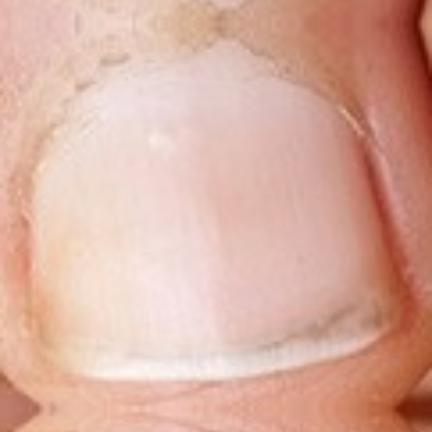Nail: (28, 75, 411, 383)
